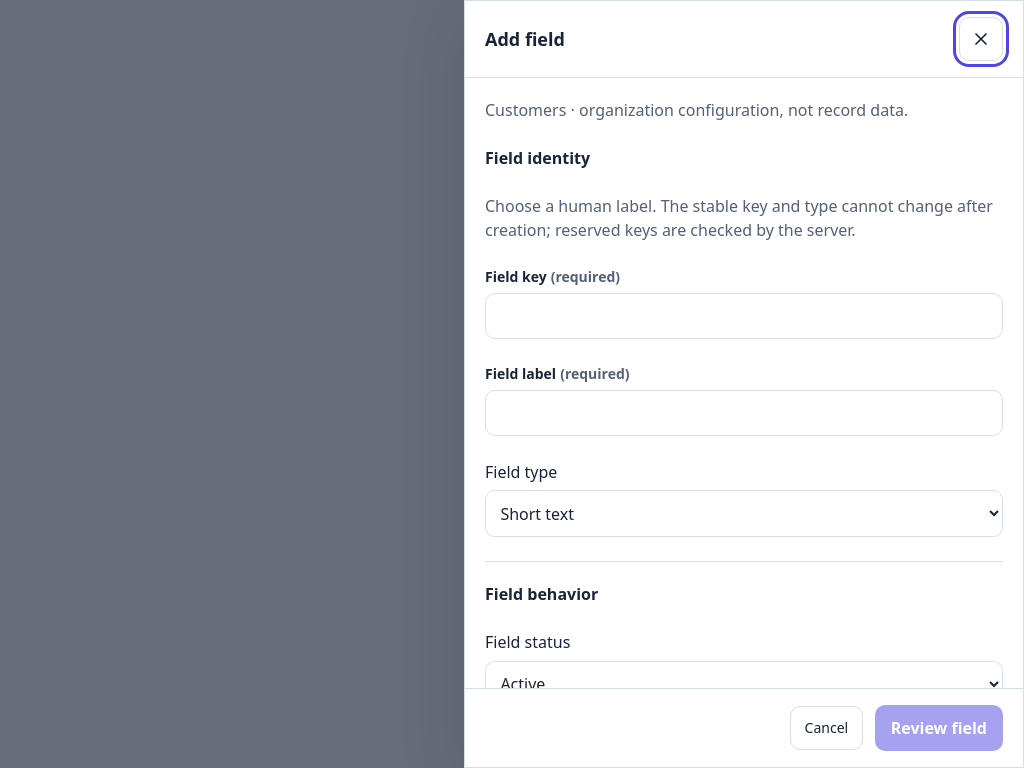
uncertain creation cannot be replayed
This screenshot has width=1024, height=768.
Type "category" into the field labelled "Field key" at (744, 316), box [485,293,1003,339]
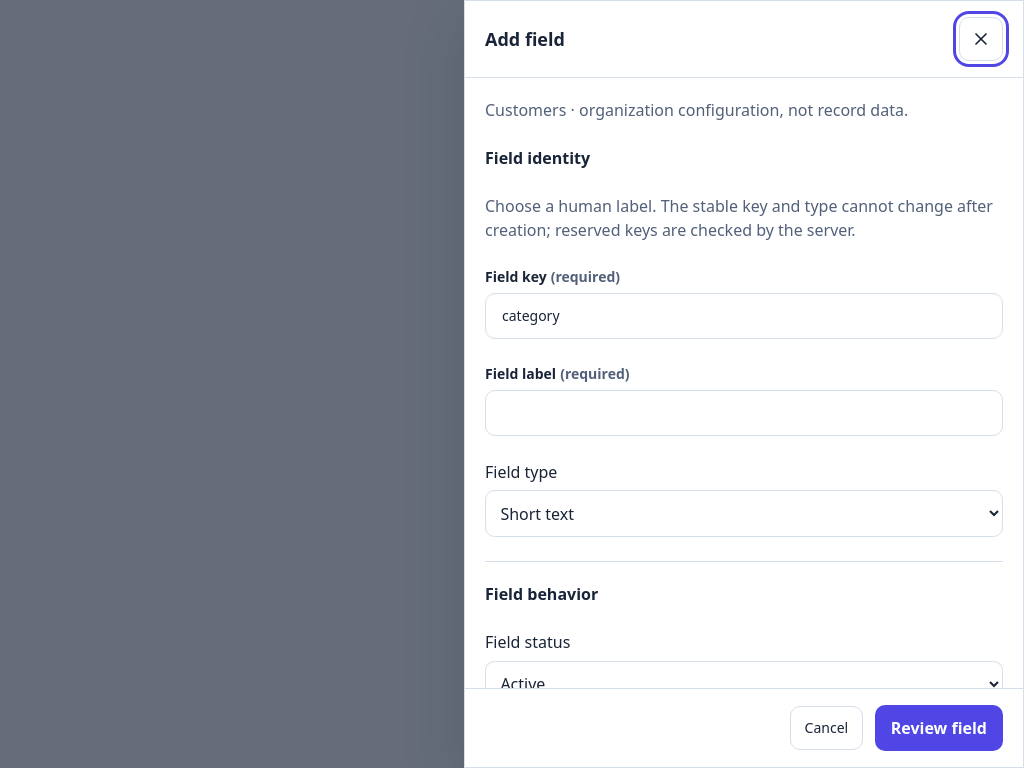
Type "Category" into the field labelled "Field label" at (744, 413), box [485,390,1003,436]
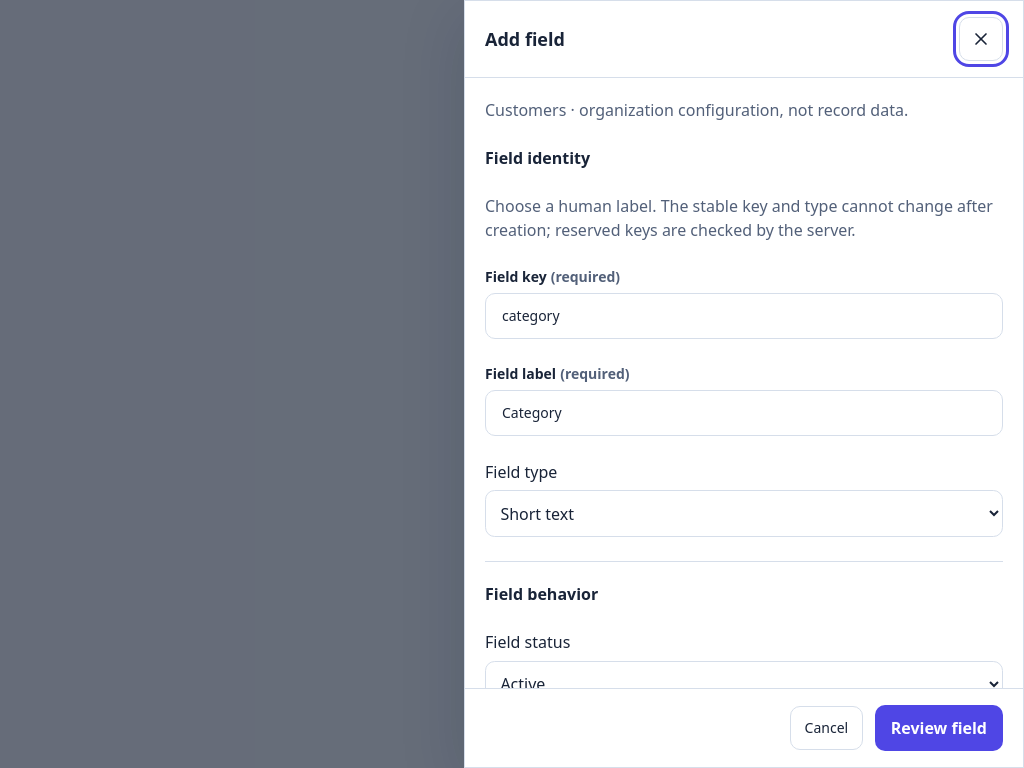
Click the button "Review field" at (939, 728), box [875,705,1003,751]
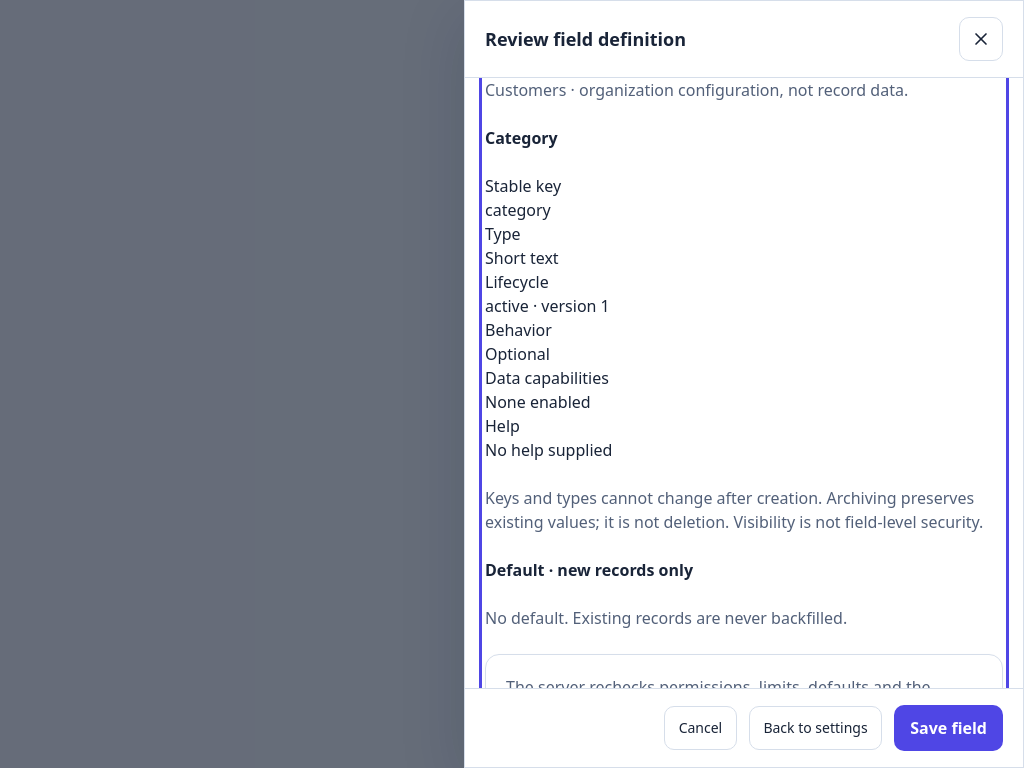
Click the button "Save field" at (949, 728), box [894,705,1003,751]
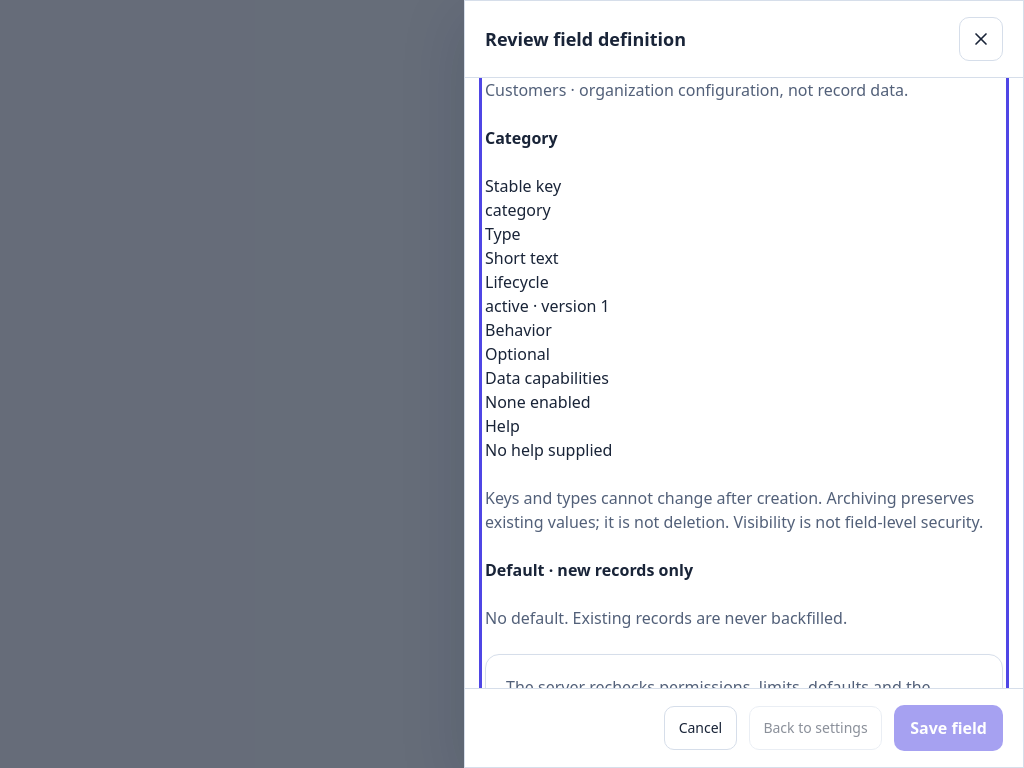
Expected: the button "Save field" is disabled, [894,705,1003,751]
